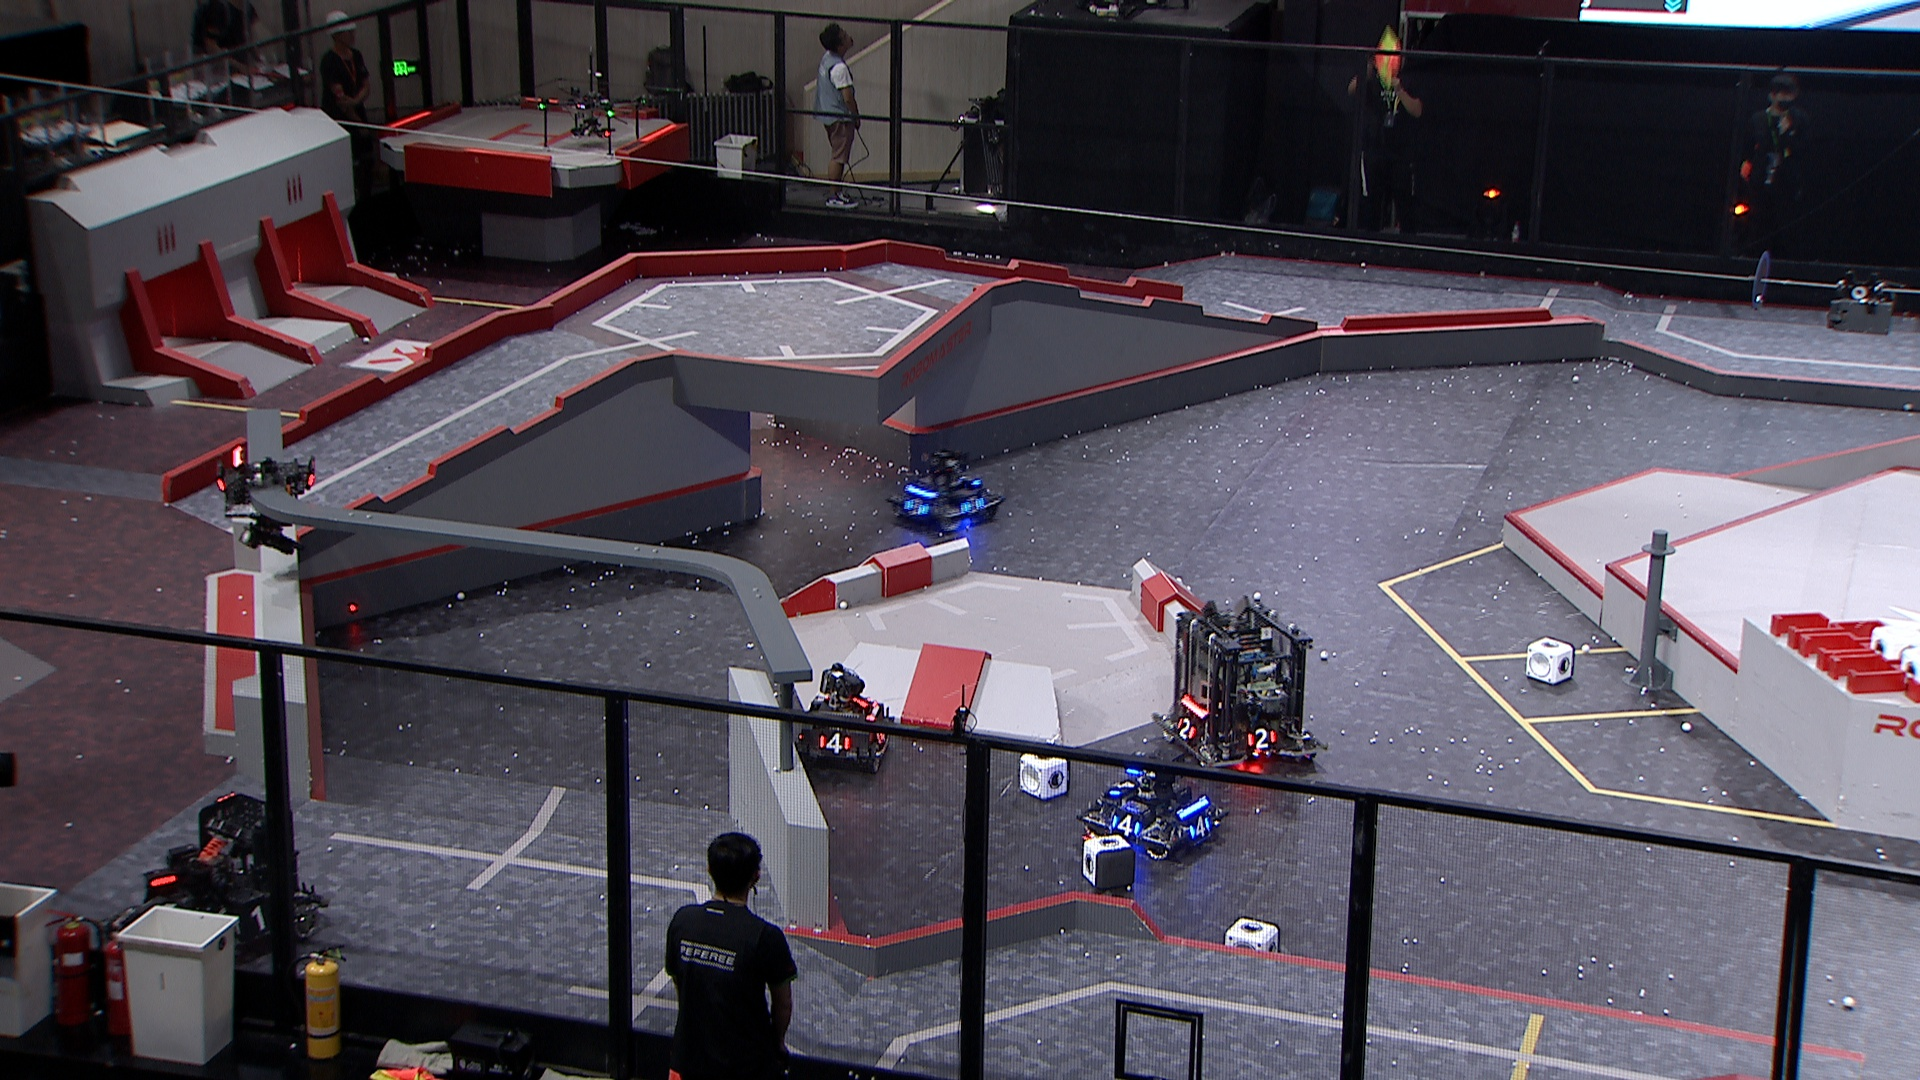armor: (229, 906, 269, 935), (1112, 808, 1143, 839), (1245, 725, 1278, 752), (818, 731, 852, 756), (902, 496, 931, 520), (1187, 816, 1212, 841), (1106, 777, 1138, 796), (960, 495, 986, 516), (1176, 717, 1197, 742)
car: (109, 789, 332, 971), (1150, 597, 1329, 775), (1076, 752, 1229, 862), (793, 666, 894, 777), (889, 450, 1007, 533)
watcher: (212, 443, 316, 556)
